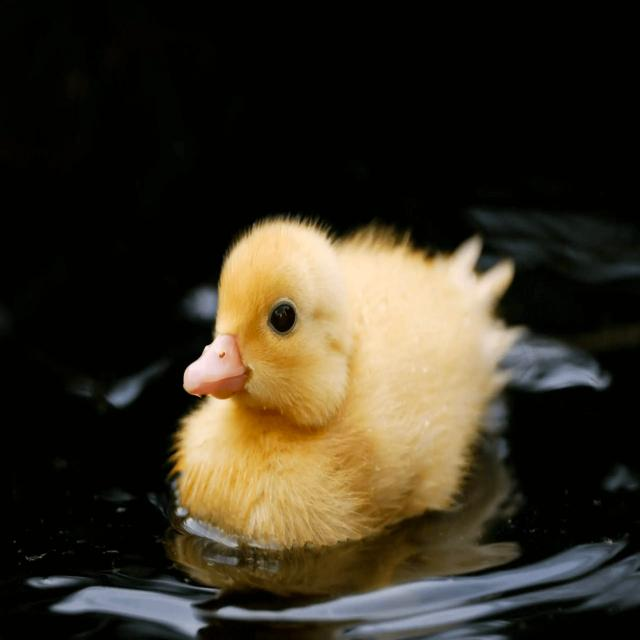duck: (172, 218, 520, 551)
